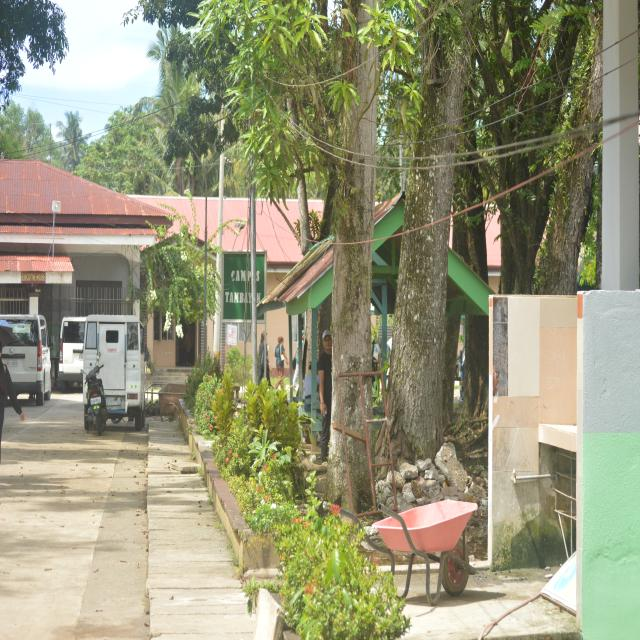person: (0, 344, 24, 441), (317, 329, 333, 462), (275, 337, 288, 388)
